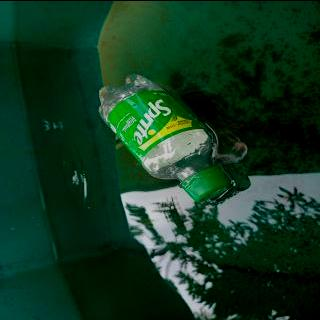bottle: (91, 71, 234, 204)
